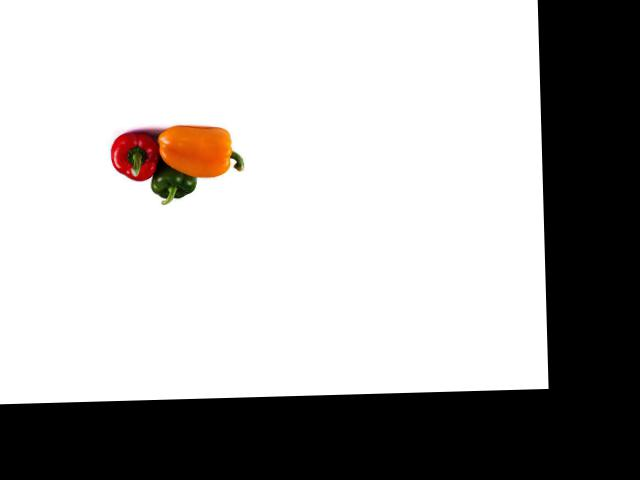bell_pepper: (146, 157, 201, 205)
